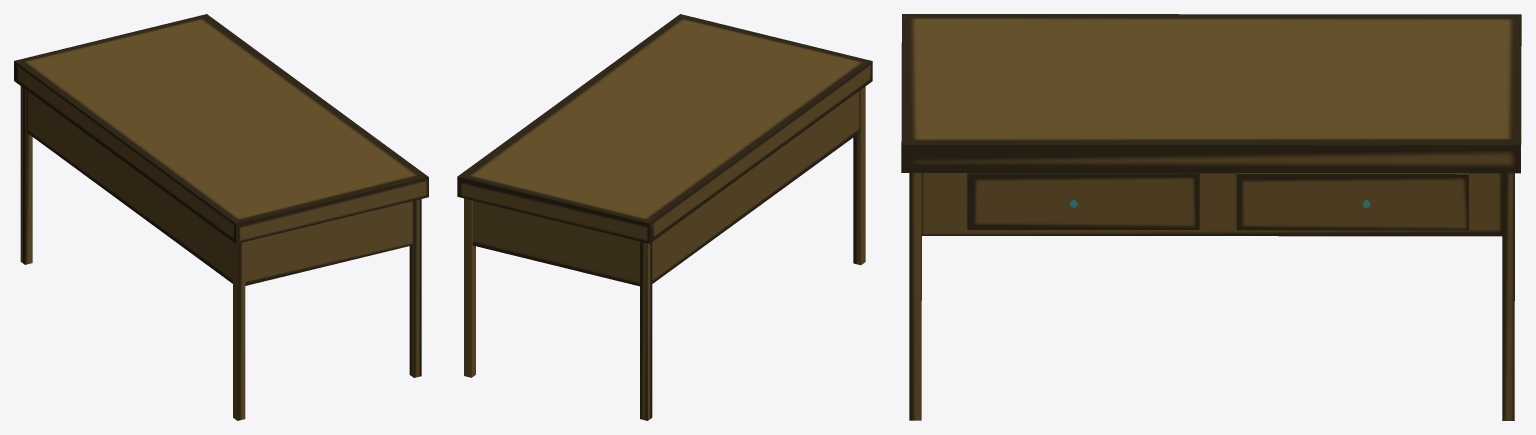
The model's file is mesa.obj.
The picture shows the model from 3 angles, left to right: view 1: azimuth 30°, elevation 25°; view 2: azimuth 150°, elevation 25°; view 3: azimuth 270°, elevation 25°; orthographic projection. The views are drawn at different scales.
Visible parts, largest first — view 1: mesa; view 2: mesa; view 3: mesa.
Part boxes in pixels (x1=…): mesa: x1=14, y1=14, x2=428, y2=420; mesa: x1=457, y1=14, x2=872, y2=420; mesa: x1=901, y1=14, x2=1521, y2=420.
Bounding box in the file's own units: 2.01 × 1.99 × 4.
